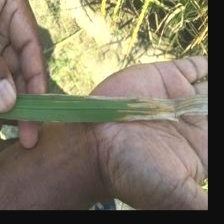Leaf_Blast: (46, 83, 206, 120)
